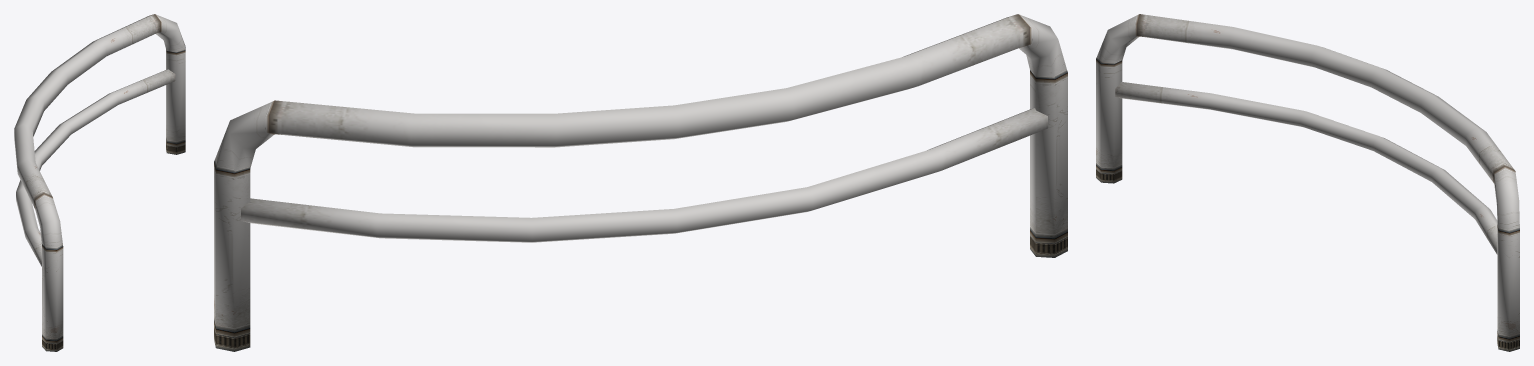
The model's file is scifi_handrail_3.FBX.
3 renders of one model, left to right at view 1: azimuth 30°, elevation 25°; view 2: azimuth 150°, elevation 25°; view 3: azimuth 270°, elevation 25°, orthographic. The views are drawn at different scales.
Parts seen in each view (by area): view 1: Cylinder072; view 2: Cylinder072; view 3: Cylinder072.
Boxes of the visible parts, <box> form: Cylinder072: <box>14,14,185,351</box>; Cylinder072: <box>214,14,1067,351</box>; Cylinder072: <box>1096,14,1519,351</box>.
Size of the model in its own units: 216 by 94.32 by 217.
